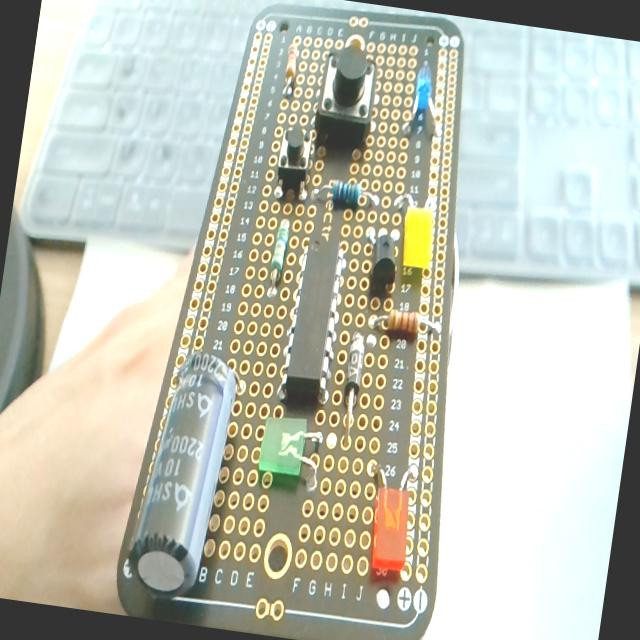Electrolytic capacitor: (123, 343, 245, 604)
IC: (276, 232, 350, 408)
diode: (335, 331, 369, 446)
led: (359, 460, 420, 575), (256, 411, 326, 492), (402, 58, 452, 140), (398, 204, 437, 274)
resistor: (370, 306, 442, 342), (268, 218, 292, 286), (330, 178, 362, 212), (282, 39, 301, 94)
switch: (314, 40, 382, 144), (273, 123, 313, 200)
transistor: (368, 232, 400, 298)
